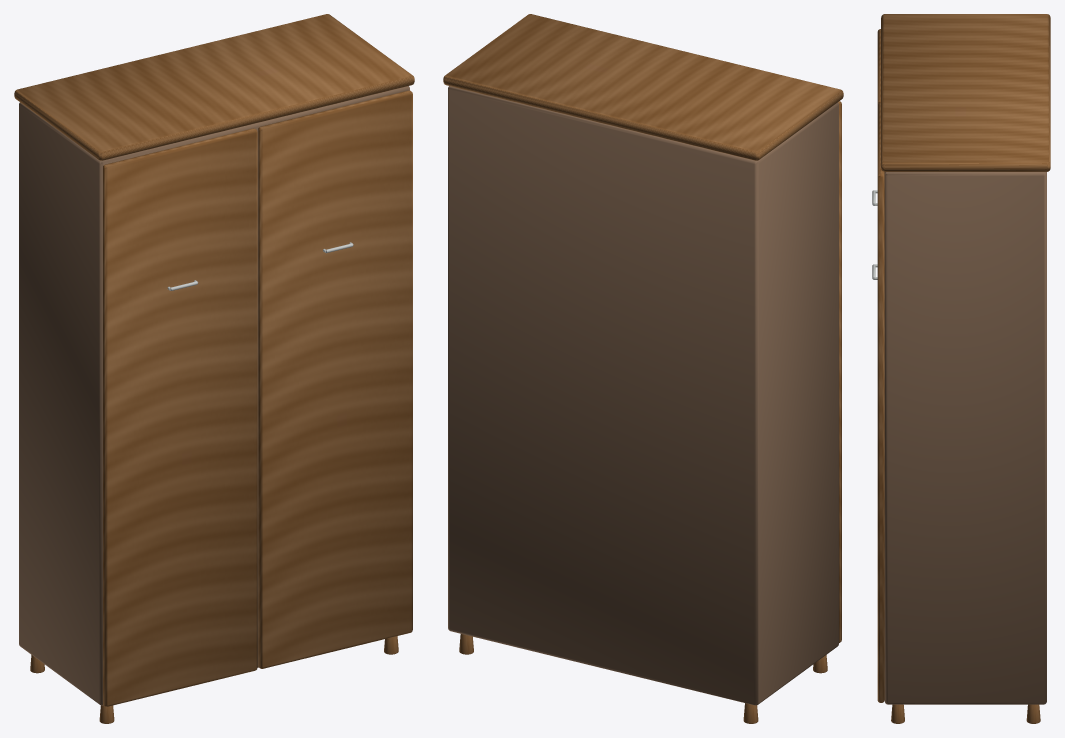
The model's file is wardrobe.glb.
3 views of the same model, side by side, from view 1: azimuth 30°, elevation 25°; view 2: azimuth 150°, elevation 25°; view 3: azimuth 270°, elevation 25° (orthographic). The views are drawn at different scales.
Visible parts, largest first — view 1: wardrobe-mesh; view 2: wardrobe-mesh; view 3: wardrobe-mesh.
Boxes of the visible parts, box(x1,y1,x2,y2) form: wardrobe-mesh: box(14, 14, 414, 723); wardrobe-mesh: box(443, 14, 843, 723); wardrobe-mesh: box(872, 14, 1050, 723).
Bounding box in the file's own units: 1.2 × 2.1 × 0.6.
Materials: 3 (1 with a texture image).
